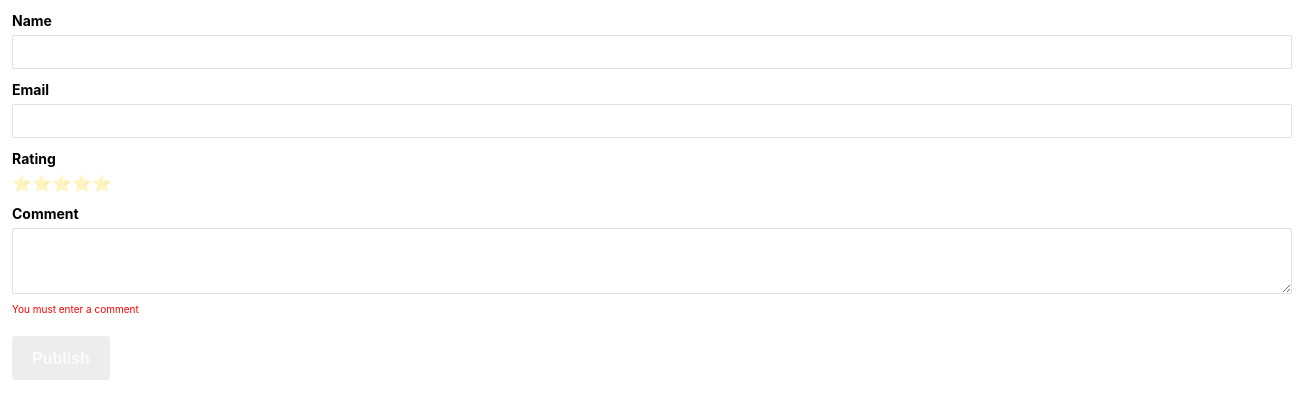
Test case: <FeedbackForm> › Field behaviour › Field: comment › should hide any error message on focus
Focus the text box with test id "input-comment" at (652, 261), box [12,228,1292,294]
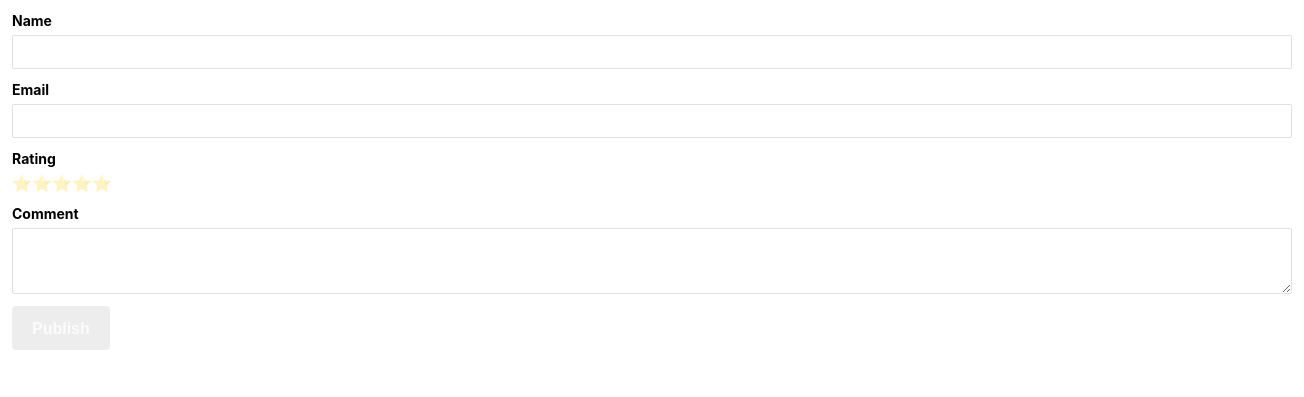
Result: the text "You must enter a comment" is gone
